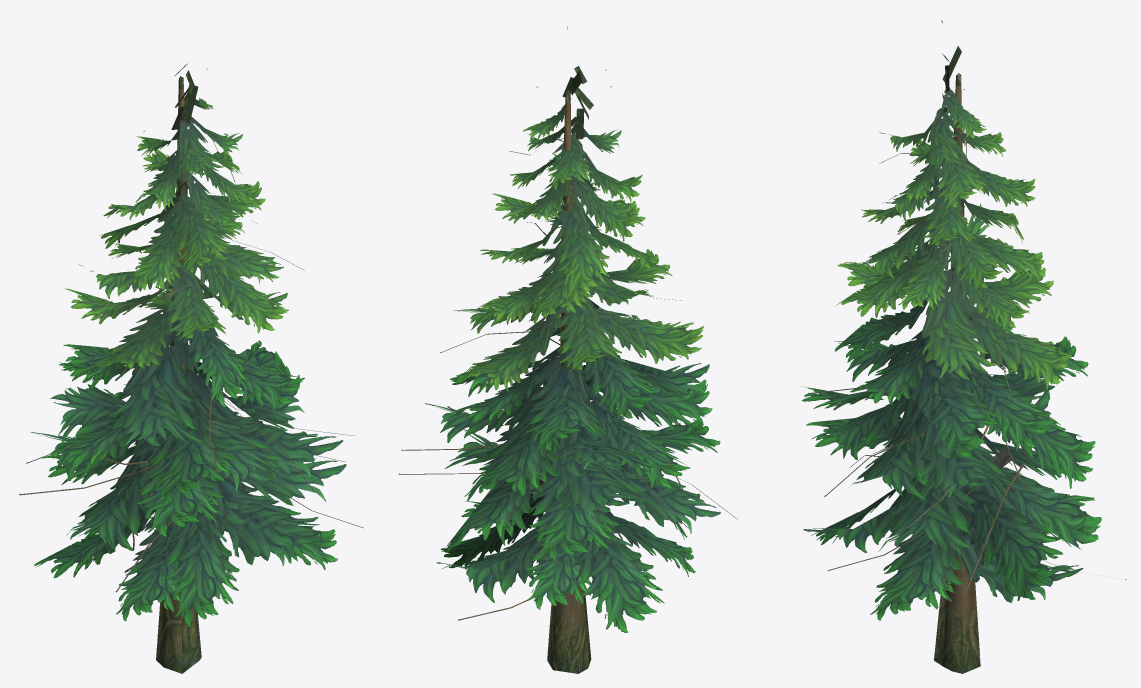
The model's file is Tree.FBX.
3 views of the same model, side by side, from view 1: azimuth 30°, elevation 25°; view 2: azimuth 150°, elevation 25°; view 3: azimuth 270°, elevation 25° (orthographic). The views are drawn at different scales.
Parts seen in each view (by area): view 1: LordaeronTree9S1; view 2: LordaeronTree9S1; view 3: LordaeronTree9S1.
Part boxes in pixels (bbox=[...]): LordaeronTree9S1: bbox=[19, 63, 364, 673]; LordaeronTree9S1: bbox=[398, 26, 737, 673]; LordaeronTree9S1: bbox=[800, 20, 1126, 673].
Size of the model in its own units: 281 by 557 by 275.
1 material, 1 textured.
